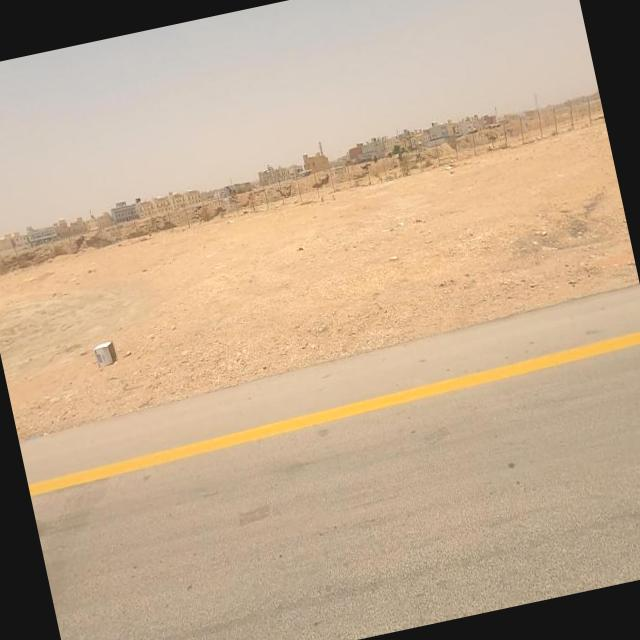debris: (56, 290, 168, 415)
